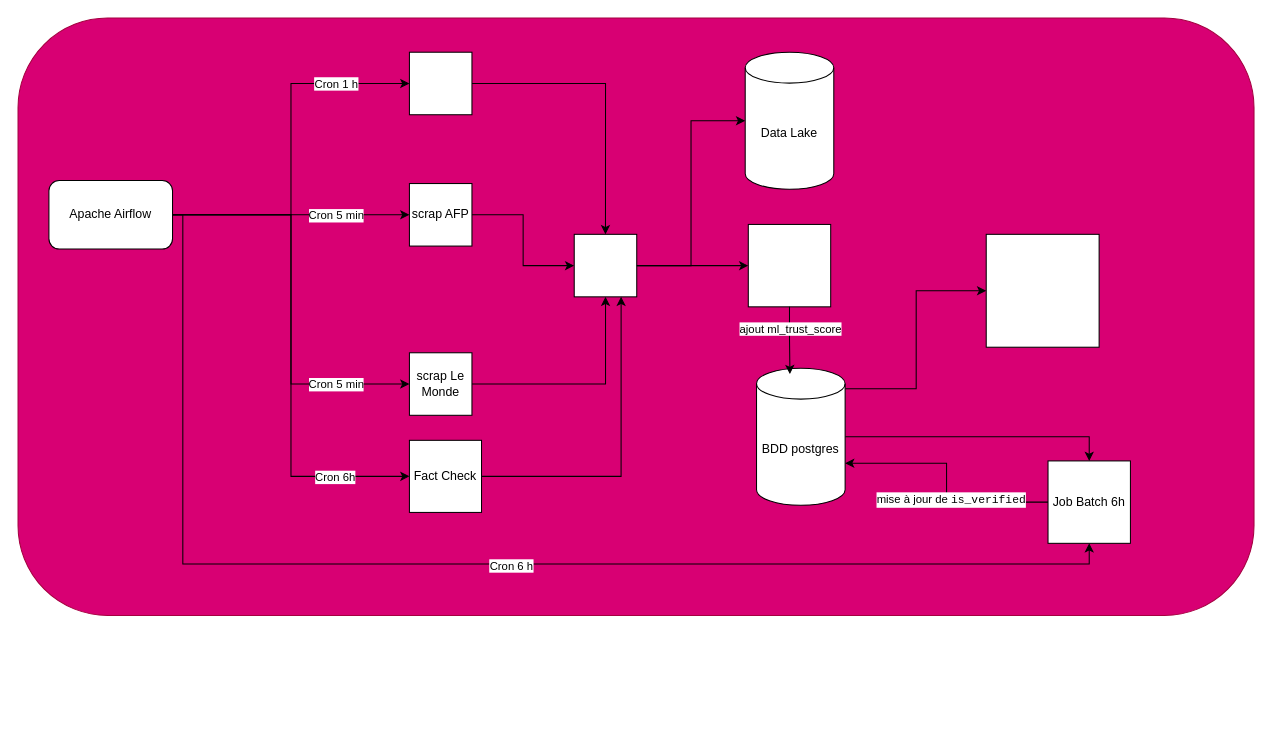
Image size: 1272x736. Some labels were removed from this diagram. Each missing label, with the centre of its shape:
"Broker Kafka" goes at pixel 605 265.
"Data Scientists / Équipe B.I." goes at pixel 1042 290.
"Module de Détection Local" goes at pixel 789 265.
"scrap gorafi" goes at pixel 440 83.
